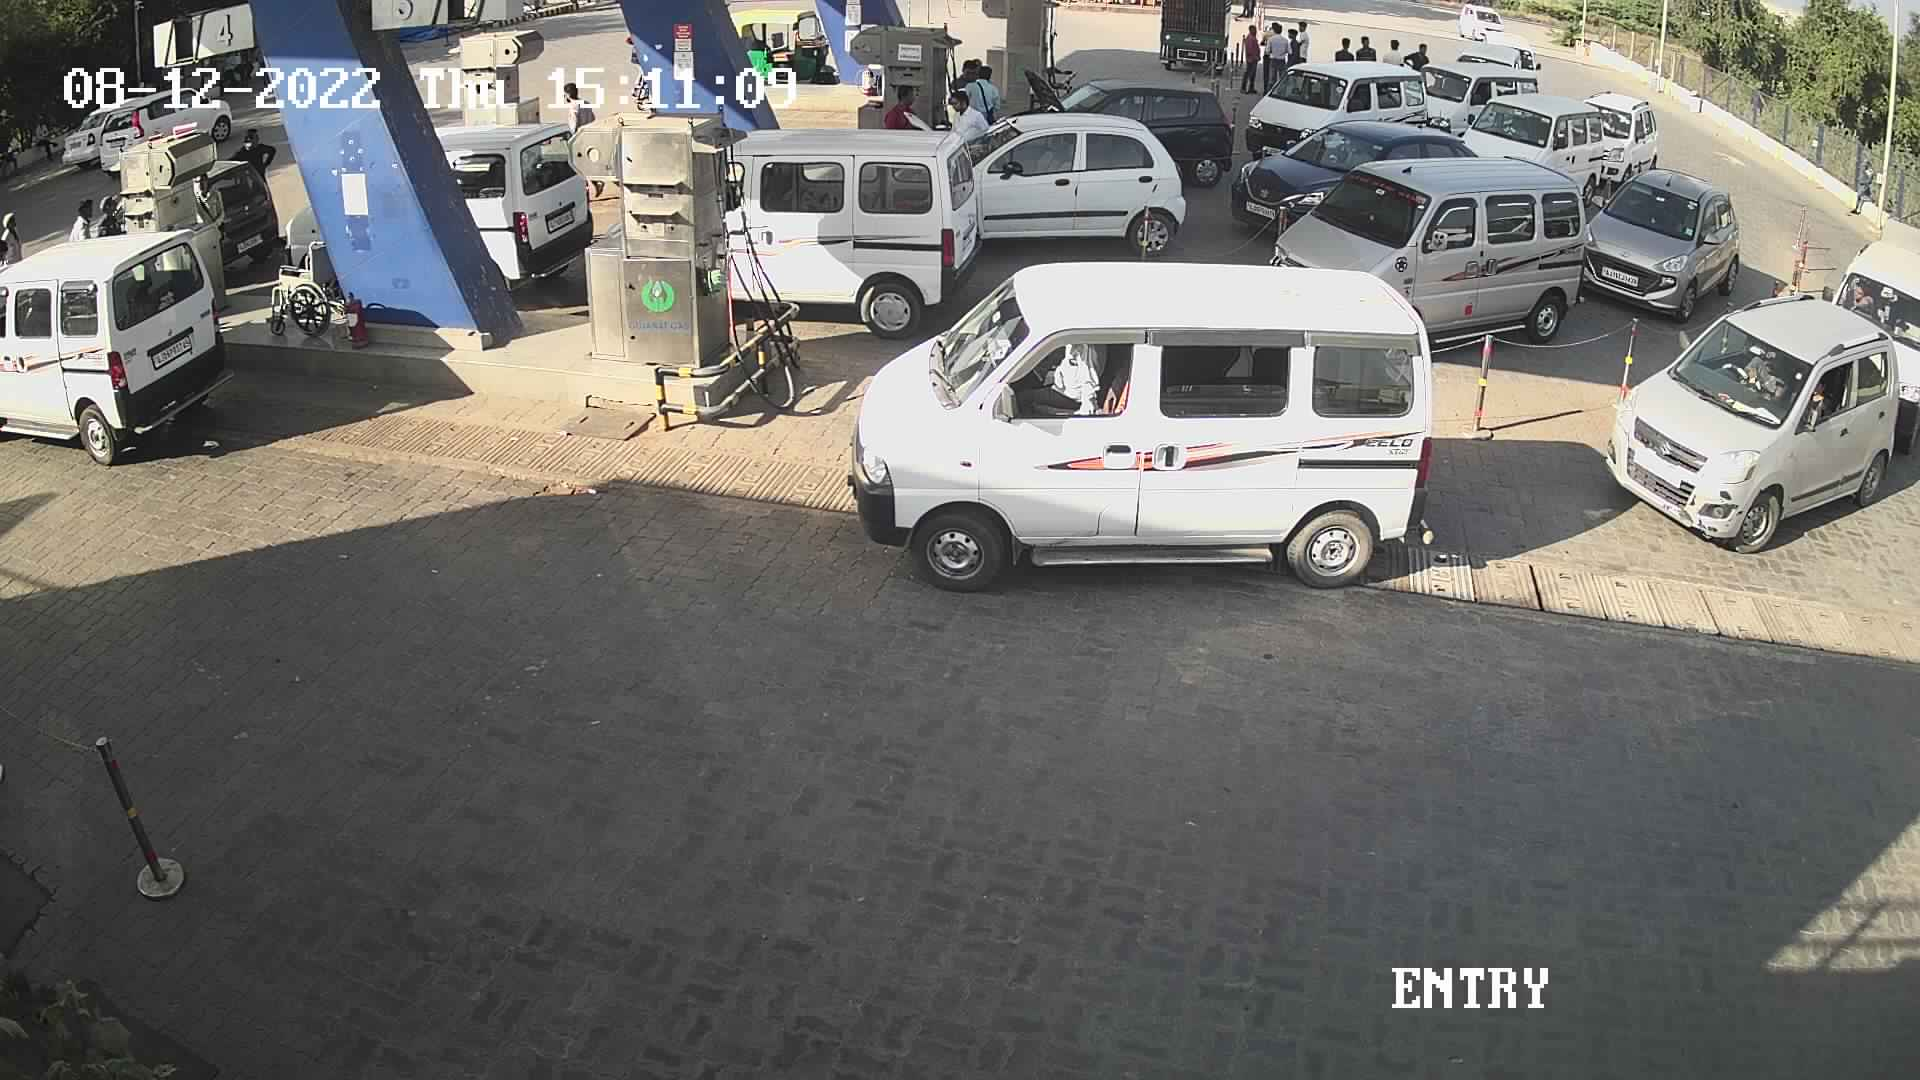Auto: (712, 0, 851, 98)
Car: (845, 249, 1466, 607), (1606, 272, 1913, 568), (1276, 150, 1592, 360), (708, 113, 989, 347), (0, 204, 240, 471), (924, 95, 1204, 269), (402, 103, 608, 295), (1234, 104, 1478, 253), (1563, 145, 1745, 334), (1011, 58, 1245, 203), (1226, 42, 1456, 185), (116, 135, 297, 305), (1820, 229, 1920, 476), (1445, 84, 1615, 214), (84, 69, 249, 187), (1404, 47, 1551, 153), (51, 78, 178, 186), (1575, 80, 1673, 194), (1470, 20, 1553, 95), (1444, 33, 1531, 90), (1447, 0, 1514, 53)
